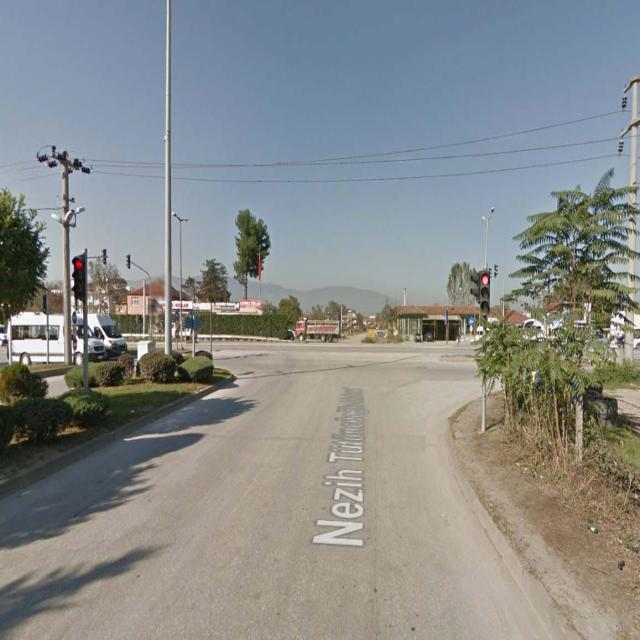kirmizi: (71, 254, 85, 296), (480, 272, 490, 314)
